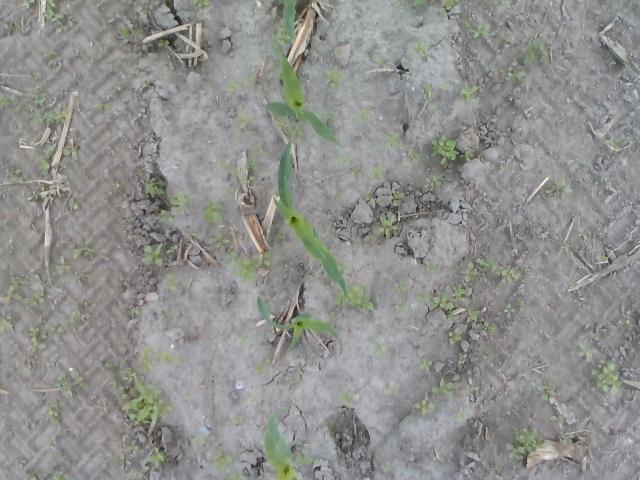Maize: (272, 140, 350, 310), (264, 36, 336, 144), (254, 294, 344, 354), (262, 409, 300, 480), (281, 0, 299, 42)
Weeds: (112, 366, 173, 425), (406, 132, 462, 168), (414, 284, 466, 322), (504, 424, 548, 463), (462, 257, 524, 284), (228, 248, 273, 284), (332, 282, 378, 314), (3, 272, 46, 306), (138, 344, 183, 372), (591, 360, 625, 394), (24, 324, 48, 368), (216, 158, 256, 184), (56, 371, 96, 396), (373, 206, 400, 240), (519, 38, 550, 66), (64, 297, 90, 330), (272, 115, 305, 141), (416, 168, 449, 194), (28, 103, 68, 124), (232, 110, 258, 141), (30, 142, 56, 172), (41, 0, 65, 31), (392, 278, 412, 314), (226, 72, 256, 94), (462, 18, 492, 40), (200, 199, 226, 224), (244, 142, 266, 170), (30, 70, 47, 106), (140, 242, 165, 266), (29, 466, 71, 480), (430, 376, 454, 400), (2, 158, 24, 184), (168, 190, 191, 214), (337, 154, 361, 177), (503, 299, 528, 321), (408, 38, 432, 60), (550, 176, 576, 196), (324, 66, 345, 90), (145, 174, 166, 198), (212, 447, 232, 472), (144, 448, 166, 470), (352, 100, 374, 122), (414, 396, 438, 416), (72, 239, 97, 258), (207, 232, 233, 250), (537, 382, 561, 401), (372, 48, 392, 70), (120, 434, 140, 456), (505, 64, 529, 82), (340, 387, 359, 408), (383, 128, 401, 150), (96, 354, 120, 370), (294, 448, 315, 466), (46, 400, 62, 423), (272, 25, 290, 45), (254, 356, 274, 374), (604, 135, 624, 153), (54, 254, 72, 273), (0, 312, 15, 334), (412, 0, 434, 15), (70, 268, 88, 286), (367, 162, 385, 180), (462, 82, 480, 100), (162, 270, 178, 290), (238, 330, 258, 346), (117, 25, 134, 42), (189, 432, 206, 449), (192, 0, 210, 16), (32, 184, 48, 202), (46, 430, 64, 446), (388, 190, 406, 206), (448, 328, 463, 346), (118, 215, 142, 226), (418, 358, 434, 374), (160, 208, 177, 223), (49, 451, 70, 463), (372, 342, 386, 360), (148, 38, 170, 49), (49, 321, 64, 337), (424, 259, 441, 273), (576, 224, 590, 241), (159, 305, 177, 318), (575, 346, 594, 358), (290, 368, 304, 384), (327, 310, 347, 321), (0, 94, 15, 108), (460, 383, 474, 398), (456, 352, 470, 367), (499, 29, 512, 45), (120, 455, 132, 472), (558, 434, 575, 446), (391, 383, 402, 401), (112, 179, 125, 194), (468, 306, 480, 322), (440, 0, 454, 13), (226, 414, 241, 426), (478, 324, 498, 333), (561, 240, 576, 252), (321, 110, 336, 122), (550, 414, 566, 425), (111, 84, 128, 94), (68, 198, 82, 210), (127, 306, 141, 318), (626, 132, 638, 146), (441, 79, 453, 93), (136, 79, 152, 89), (16, 456, 28, 469), (463, 149, 476, 161), (224, 472, 243, 480), (46, 50, 58, 62), (7, 22, 20, 33), (126, 469, 139, 480), (95, 102, 112, 110), (133, 166, 146, 176), (624, 318, 634, 330), (422, 83, 432, 95), (428, 104, 442, 112), (230, 38, 240, 49), (166, 244, 177, 254), (22, 0, 34, 9), (571, 207, 577, 224), (364, 191, 374, 201), (596, 254, 608, 262), (62, 147, 72, 156), (272, 16, 278, 24)
